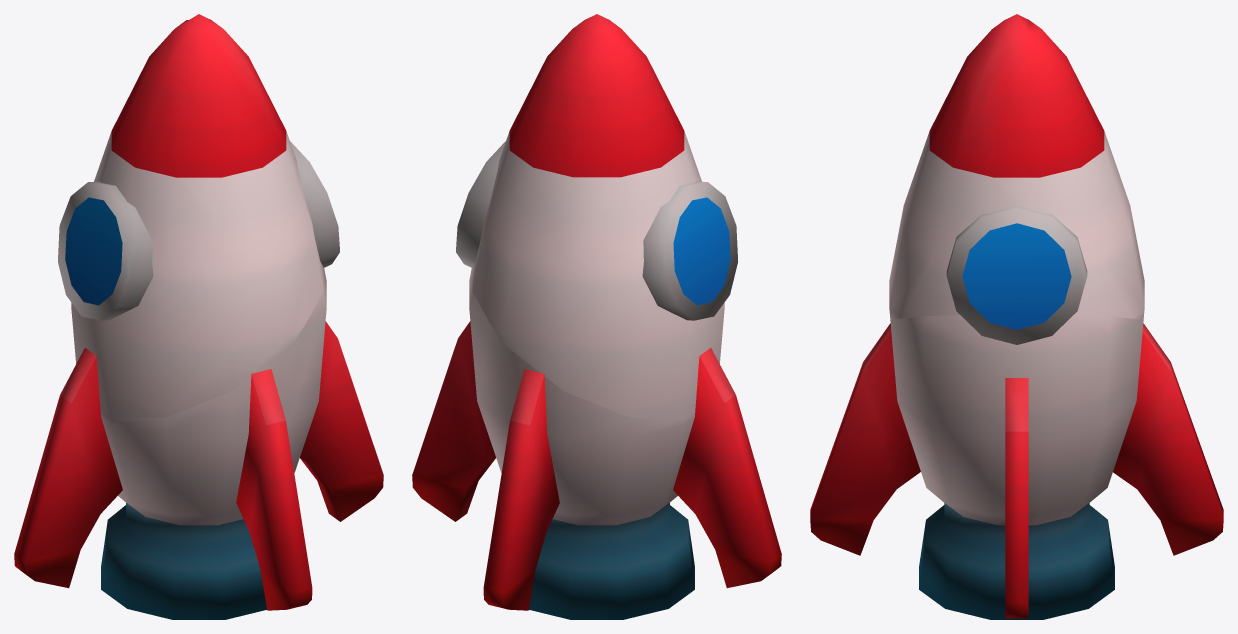
The model's file is Rocket toy break.fbx.
3 views of the same model, side by side, from view 1: azimuth 30°, elevation 25°; view 2: azimuth 150°, elevation 25°; view 3: azimuth 270°, elevation 25° (orthographic).
Visible parts, largest first — view 1: Rocket toy, Rocket toy.007, Rocket toy.002, Rocket toy.001, Rocket toy.005, Rocket toy.004, Rocket toy.006; view 2: Rocket toy, Rocket toy.007, Rocket toy.002, Rocket toy.003, Rocket toy.005, Rocket toy.004, Rocket toy.006; view 3: Rocket toy.007, Rocket toy, Rocket toy.006, Rocket toy.003, Rocket toy.001, Rocket toy.004.
Part boxes in pixels (x1,y1,x2,y2): Rocket toy: [71, 14, 323, 418]; Rocket toy.007: [100, 264, 326, 619]; Rocket toy.002: [14, 348, 122, 588]; Rocket toy.001: [236, 369, 312, 610]; Rocket toy.005: [58, 181, 153, 320]; Rocket toy.004: [300, 321, 383, 521]; Rocket toy.006: [290, 141, 339, 267]; Rocket toy: [472, 14, 724, 418]; Rocket toy.007: [469, 264, 695, 619]; Rocket toy.002: [673, 348, 781, 588]; Rocket toy.003: [483, 369, 559, 610]; Rocket toy.005: [642, 181, 737, 320]; Rocket toy.004: [412, 321, 495, 521]; Rocket toy.006: [456, 141, 505, 267]; Rocket toy.007: [890, 315, 1143, 619]; Rocket toy: [889, 14, 1144, 319]; Rocket toy.006: [946, 206, 1087, 344]; Rocket toy.003: [1113, 323, 1223, 555]; Rocket toy.001: [810, 323, 920, 555]; Rocket toy.004: [1005, 378, 1028, 618].
Size of the model in its own units: 15.96 by 24.05 by 15.96.
